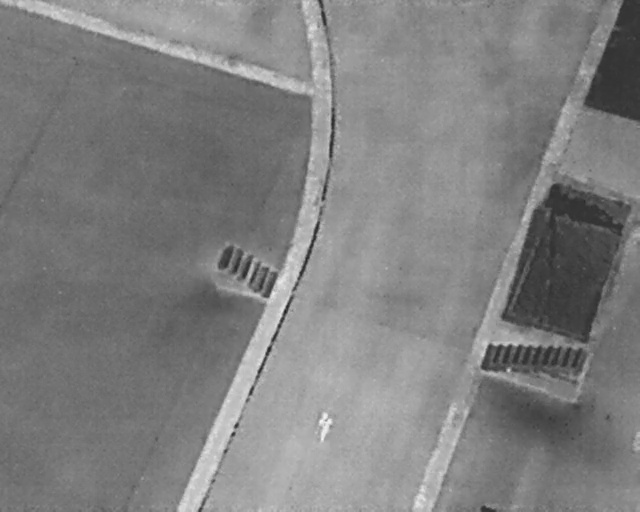Person: (314, 408, 335, 445)
